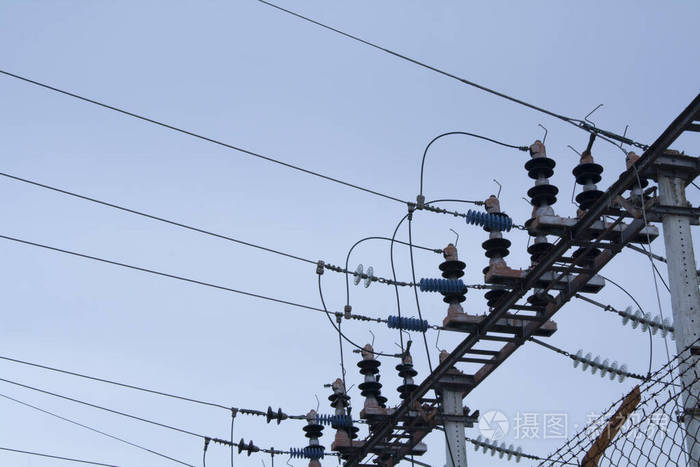insulator: (572, 349, 627, 384), (622, 307, 677, 341), (474, 435, 522, 462), (464, 210, 515, 231), (419, 276, 465, 294), (386, 316, 428, 332), (315, 412, 353, 428), (351, 263, 375, 287), (289, 446, 327, 460)
